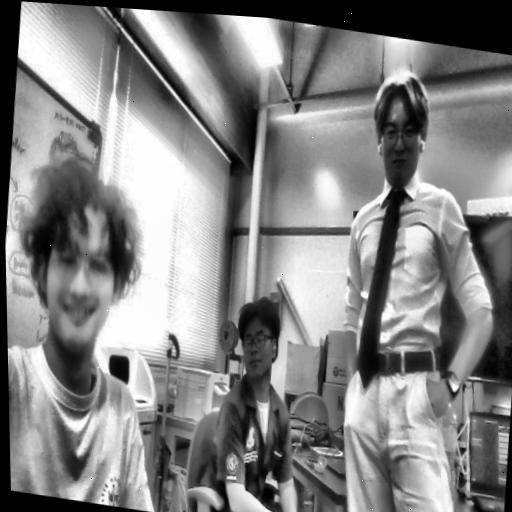Daifuku: (13, 139, 149, 365)
Not Daifuku: (366, 63, 436, 182), (235, 293, 286, 388)
